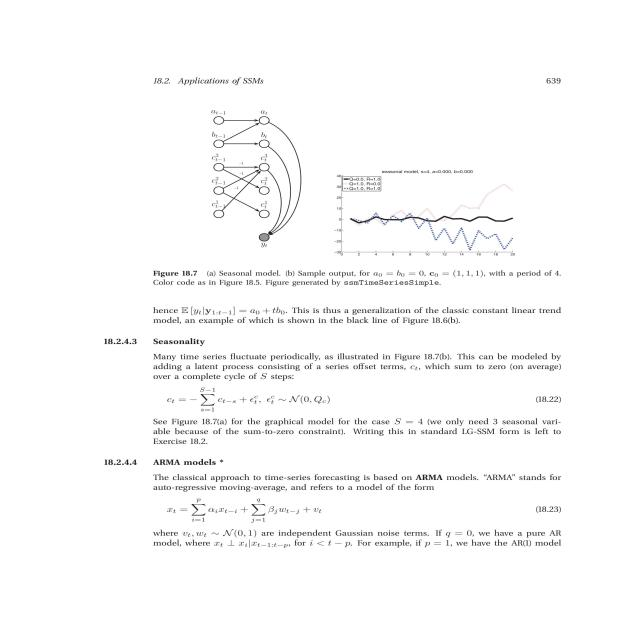diagram: (90, 95, 640, 294)
